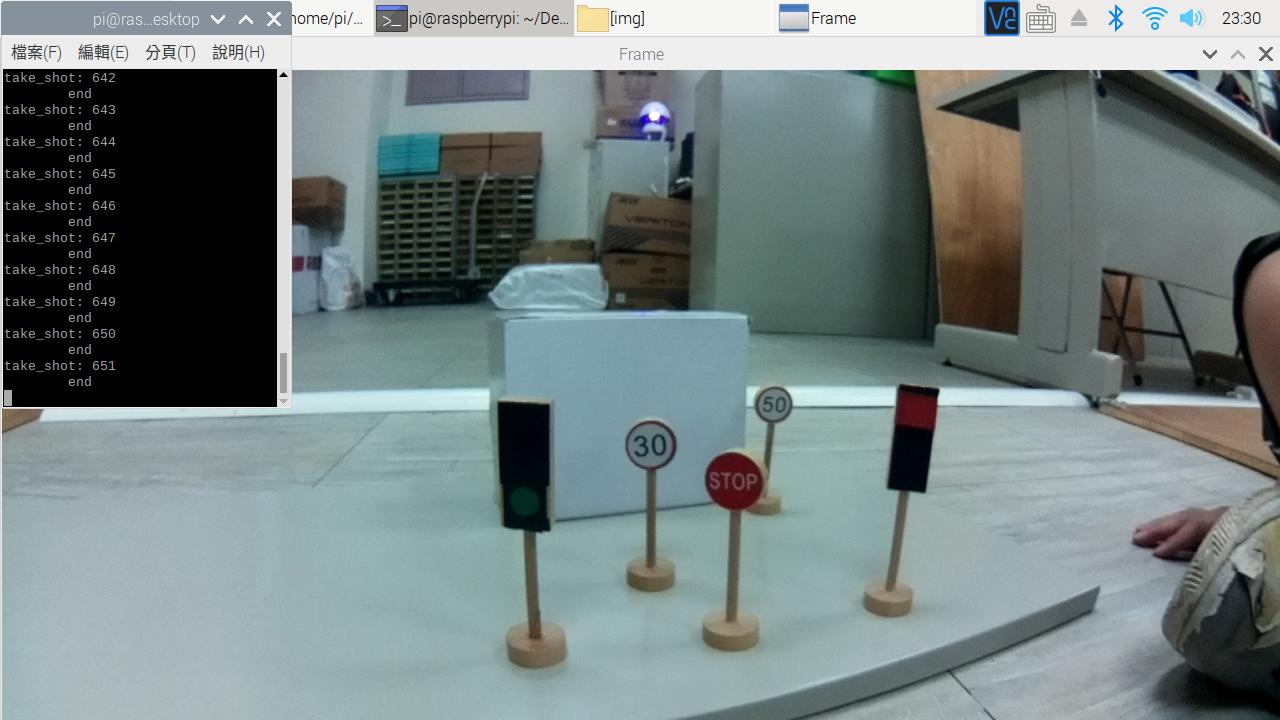Green: (482, 392, 563, 540)
Red: (883, 378, 942, 503)
Speed30: (614, 407, 689, 486)
Speed50: (744, 374, 803, 434)
Stop: (703, 444, 786, 522)
